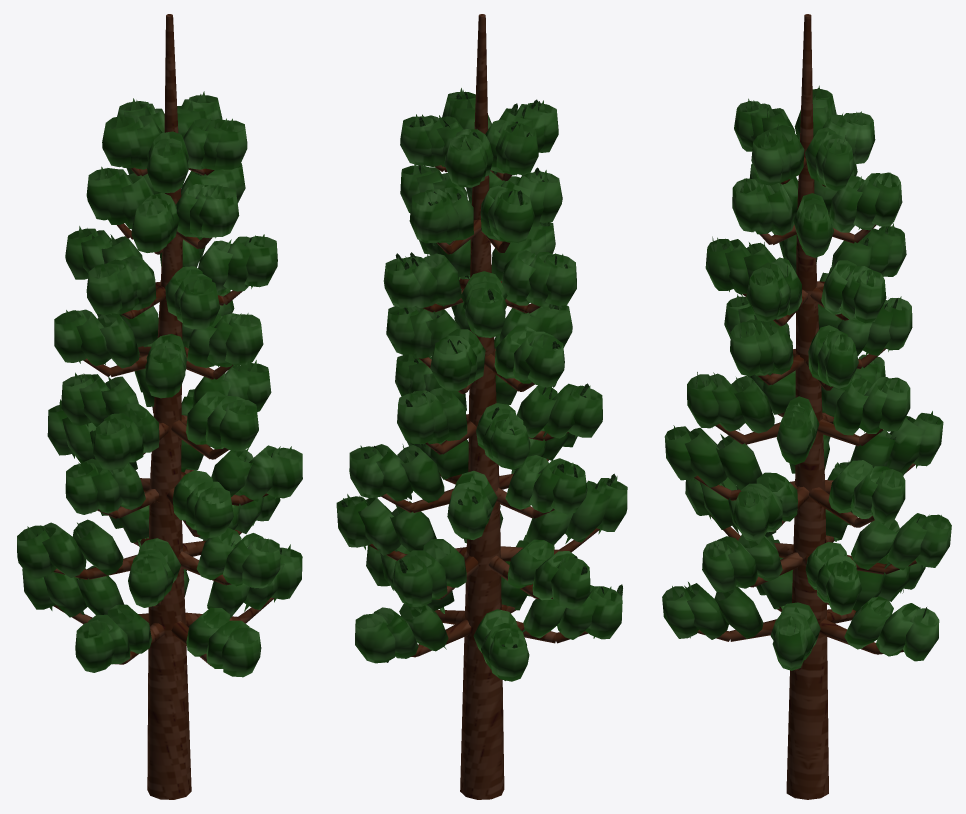
Rendered from pine04-lod0.glb.
The picture shows the model from 3 angles, left to right: view 1: azimuth 30°, elevation 25°; view 2: azimuth 150°, elevation 25°; view 3: azimuth 270°, elevation 25°; orthographic projection.
Visible parts, largest first — view 1: TZ_pine_Batch_01_LOD0, TZ_pine_Batch_00_LOD0; view 2: TZ_pine_Batch_01_LOD0, TZ_pine_Batch_00_LOD0, TZ_pine_Batch_02_LOD0; view 3: TZ_pine_Batch_01_LOD0, TZ_pine_Batch_00_LOD0, TZ_pine_Batch_02_LOD0.
Part boxes in pixels (x1,y1,x2,y2): TZ_pine_Batch_01_LOD0: (17,91,302,677); TZ_pine_Batch_00_LOD0: (53,14,274,799); TZ_pine_Batch_01_LOD0: (336,88,627,681); TZ_pine_Batch_00_LOD0: (369,14,599,799); TZ_pine_Batch_02_LOD0: (341,91,622,680); TZ_pine_Batch_01_LOD0: (662,85,951,670); TZ_pine_Batch_00_LOD0: (694,14,916,799); TZ_pine_Batch_02_LOD0: (671,95,937,632).
Bounding box in the file's own units: 2.87 × 7.9 × 2.67.
3 materials, 3 textured.
